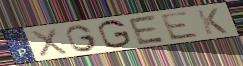E: (158, 10, 202, 42), (127, 14, 168, 46)
G: (96, 19, 133, 50), (65, 24, 100, 53)
K: (194, 7, 230, 36)
X: (28, 27, 70, 58)
